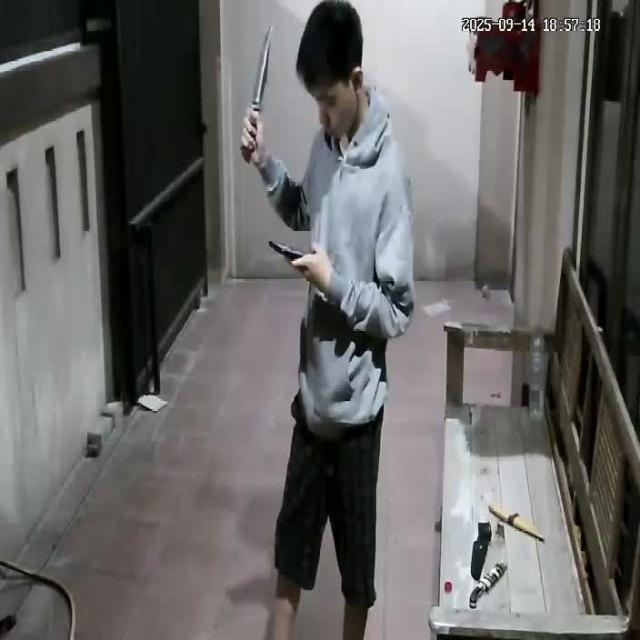senjata_tajam: (247, 20, 275, 113)
